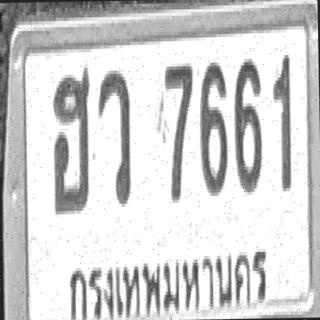A37: (96, 68, 131, 205)
A44: (51, 68, 92, 214)
N01: (271, 51, 292, 191)
N06: (232, 56, 263, 192), (198, 59, 228, 196)
N07: (163, 61, 195, 201)
P04: (64, 238, 274, 320)
